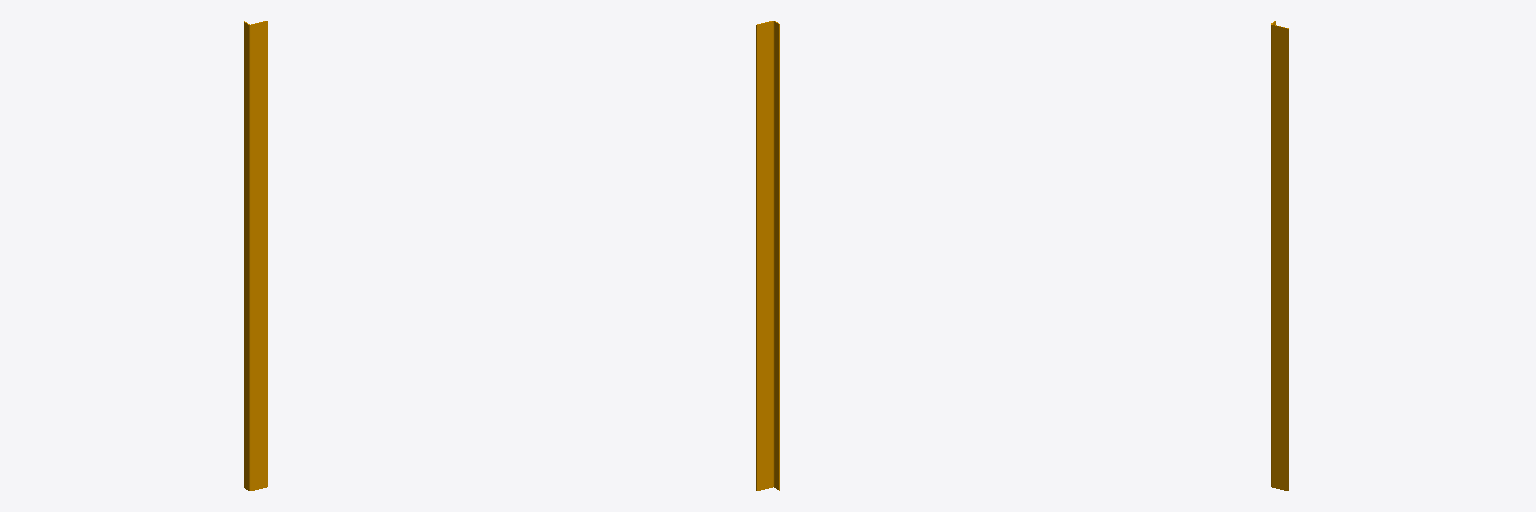
URDF robot description (reinforcement_bar):
<robot name="reinforcement_bar">
<link name="bar_base_link">
    <collision>
        <origin xyz="0 0 -0.48"/>
        <geometry>
            <mesh filename="package://agimus_demo_10_tiago_pro_bar_manip/meshes/reinforcment_bar.stl"
            scale="0.001 0.001 0.001"/>
        </geometry>
    </collision>
    <visual>
        <origin xyz="0 0 -0.48"/>
        <geometry>
            <mesh filename="package://agimus_demo_10_tiago_pro_bar_manip/meshes/reinforcment_bar.stl"
            scale="0.001 0.001 0.001"/>
        </geometry>
    </visual>
</link>
</robot>

--- Facts derived from the render (not from the file) ---
3 views of the same robot in one strip: view 1: azimuth 30°, elevation 25°; view 2: azimuth 210°, elevation 25°; view 3: azimuth 330°, elevation 25° (orthographic).
Model reinforcement_bar with 1 links and 0 joints (none), rooted at bar_base_link, posed every joint at zero.
Links seen in each view (by area): view 1: bar_base_link; view 2: bar_base_link; view 3: bar_base_link.
Link boxes in pixels (<box>): bar_base_link: <box>244,21,267,490</box>; bar_base_link: <box>756,21,779,490</box>; bar_base_link: <box>1271,21,1288,490</box>.
Size in the robot's own frame: 0.04 by 0.02 by 0.96 metres.
1 mesh visuals loaded from 1 distinct referenced files (1 binary STL).
